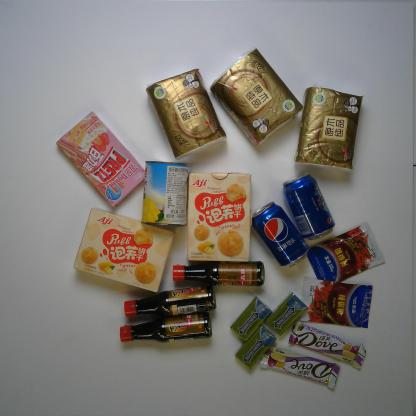Canned Food: (139, 159, 192, 228)
Chocolate: (288, 320, 366, 373), (256, 341, 338, 390)
Dessert: (71, 204, 178, 294), (54, 108, 146, 209), (185, 171, 253, 264)
Drink: (251, 201, 311, 270), (280, 172, 337, 242)
Gum: (233, 323, 279, 374), (227, 295, 273, 345), (263, 290, 309, 340)
Seasoner: (305, 220, 387, 284), (298, 275, 374, 331), (117, 310, 215, 346), (122, 286, 219, 319), (170, 258, 268, 288)
Tissue: (208, 44, 305, 152), (144, 67, 230, 162), (290, 86, 366, 176)
